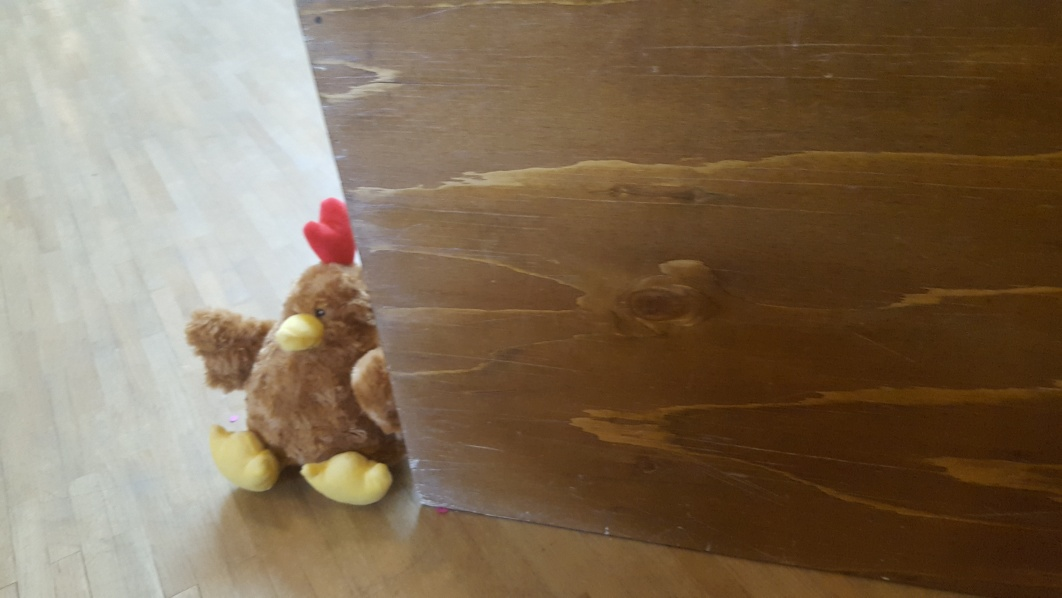chicken: (185, 196, 409, 514)
